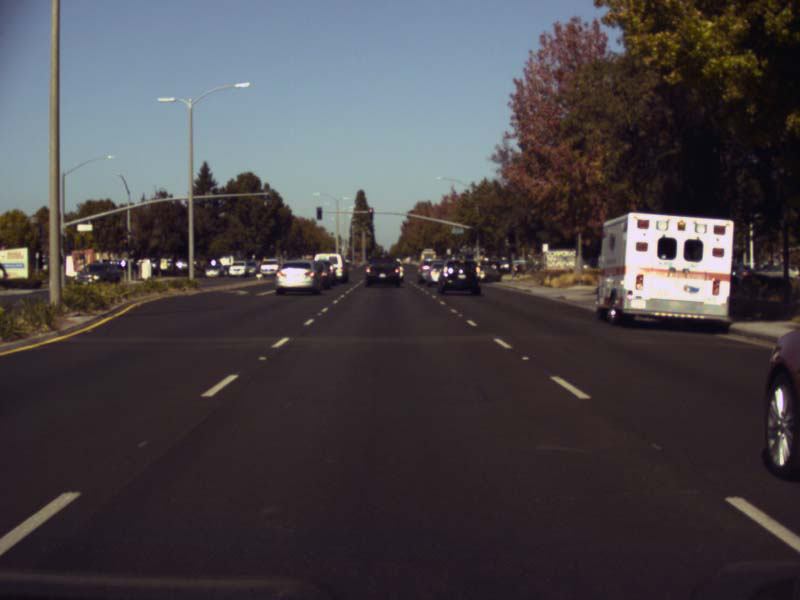Red: (367, 206, 373, 220)
